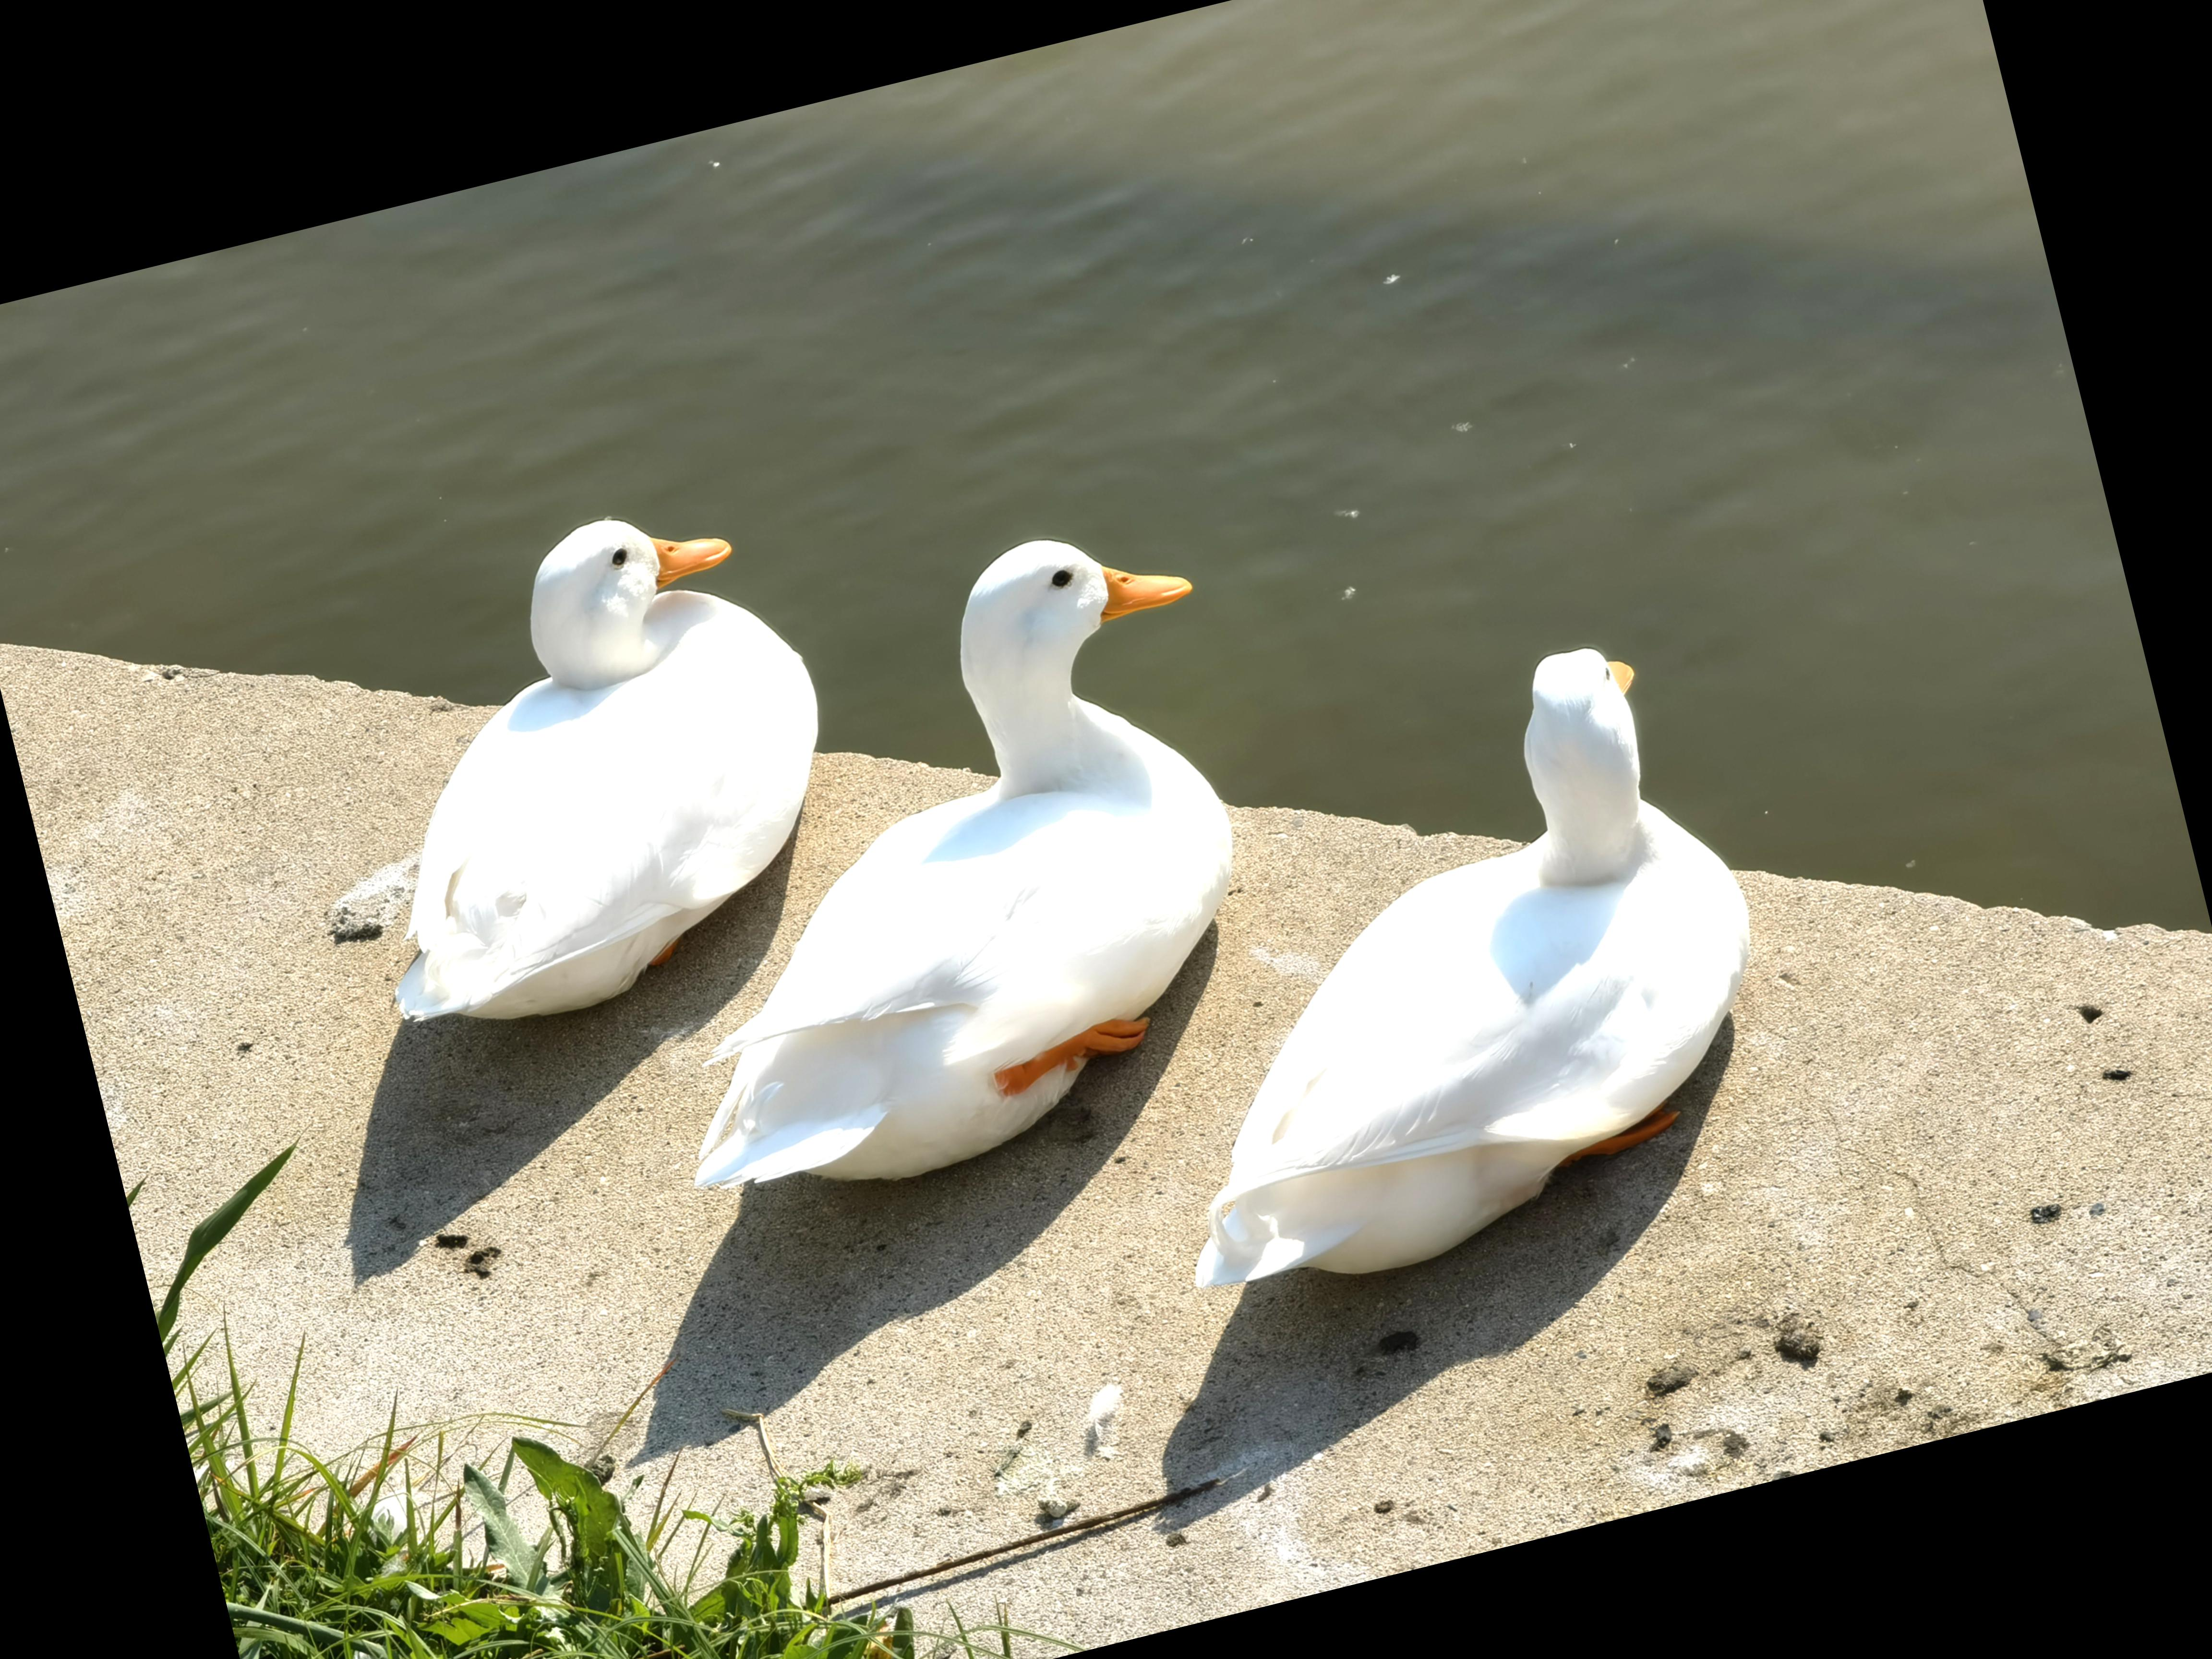duck: (1029, 592, 1831, 1359), (557, 477, 1332, 1255), (221, 439, 925, 1086)
